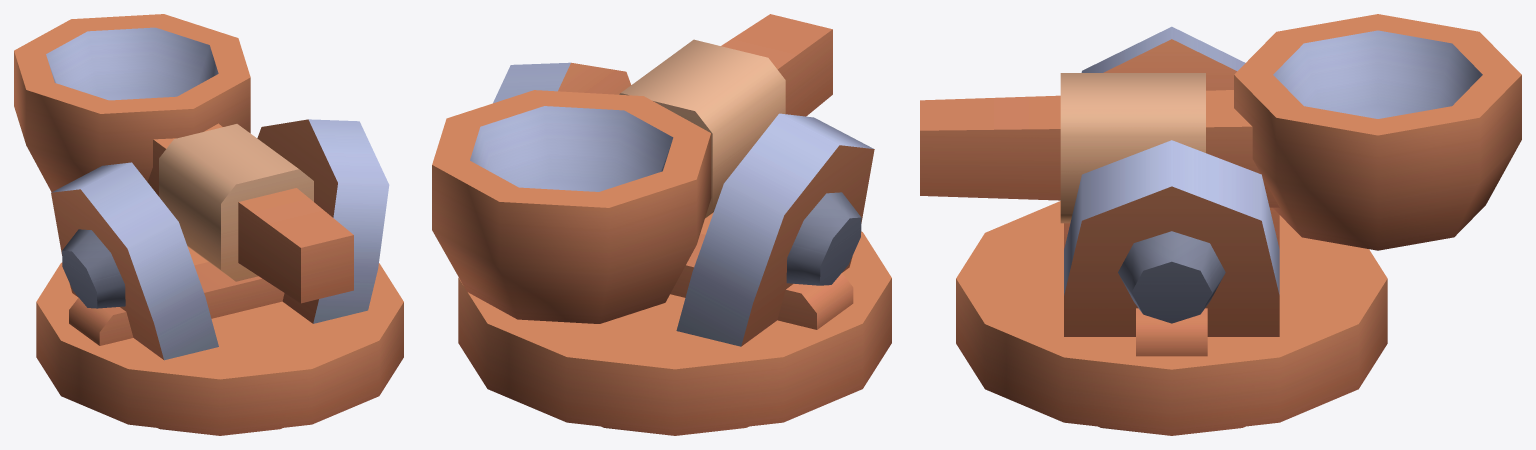
File: kenney-tower-defense-weapon-catapult.glb
3 renders of one model, left to right at view 1: azimuth 30°, elevation 25°; view 2: azimuth 150°, elevation 25°; view 3: azimuth 270°, elevation 25°, orthographic. The views are drawn at different scales.
Visible parts, largest first — view 1: weapon-catapult, catapult; view 2: weapon-catapult, catapult; view 3: weapon-catapult, catapult.
Boxes of the visible parts, x1,y1,x2,y2 form: weapon-catapult: (36, 119, 403, 435); catapult: (14, 14, 353, 303); weapon-catapult: (458, 62, 891, 435); catapult: (432, 14, 832, 323); weapon-catapult: (956, 26, 1387, 435); catapult: (920, 14, 1521, 250).
Size of the model in its own units: 0.6 by 0.4625 by 0.8366.
Materials: 1 (1 with a texture image).
